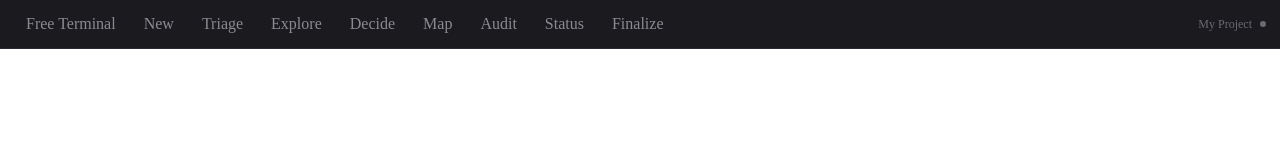
Test: Toolbar › shows inline error when spawn fails
The width and height of the screenshot is (1280, 160).
Click the button with test id "toolbar-btn-explore": (296, 24) [259,10,334,38]
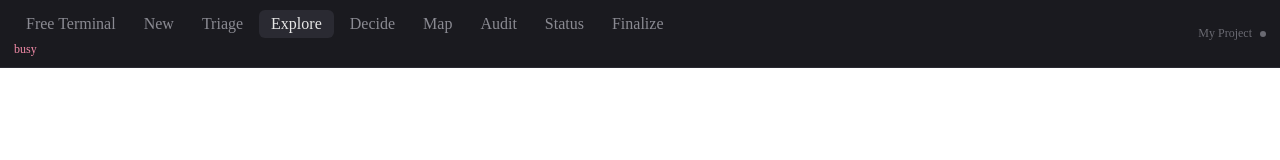
Result: the message with test id "toolbar-error" reads "busy" at [14,42,37,56]
